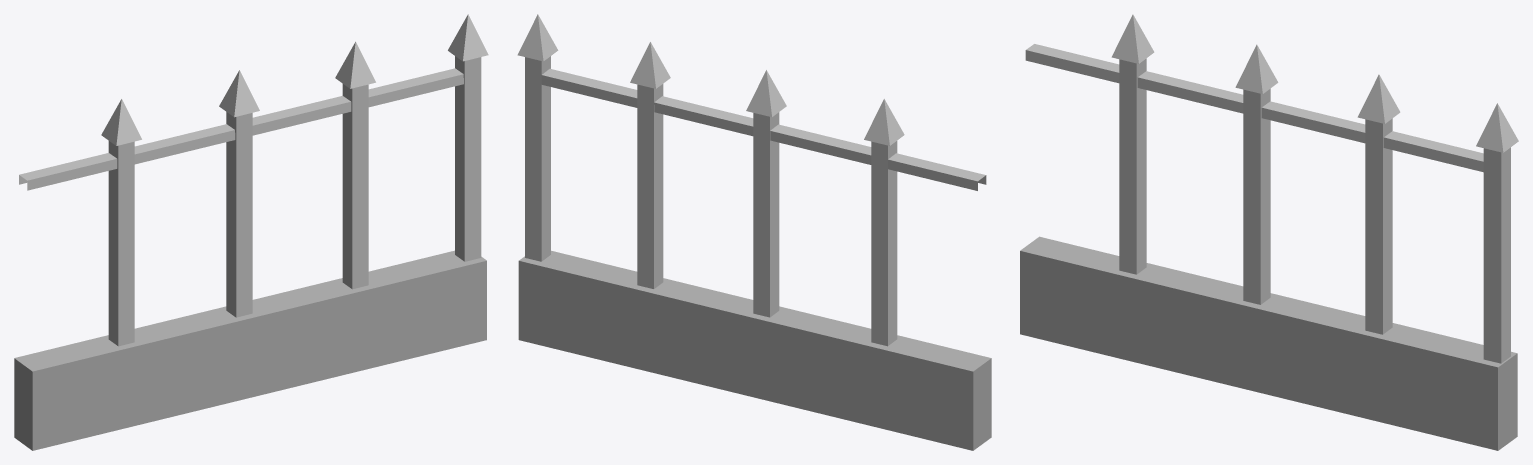
Rendered from langan_03.FBX.
The picture shows the model from 3 angles, left to right: view 1: azimuth 30°, elevation 25°; view 2: azimuth 150°, elevation 25°; view 3: azimuth 330°, elevation 25°; orthographic projection. The views are drawn at different scales.
Visible parts, largest first — view 1: Object031; view 2: Object031; view 3: Object031.
Boxes of the visible parts, x1,y1,x2,y2 form: Object031: [14, 14, 488, 450]; Object031: [517, 14, 991, 450]; Object031: [1020, 14, 1518, 450].
Bounding box in the file's own units: 2085 × 1400 × 145.
